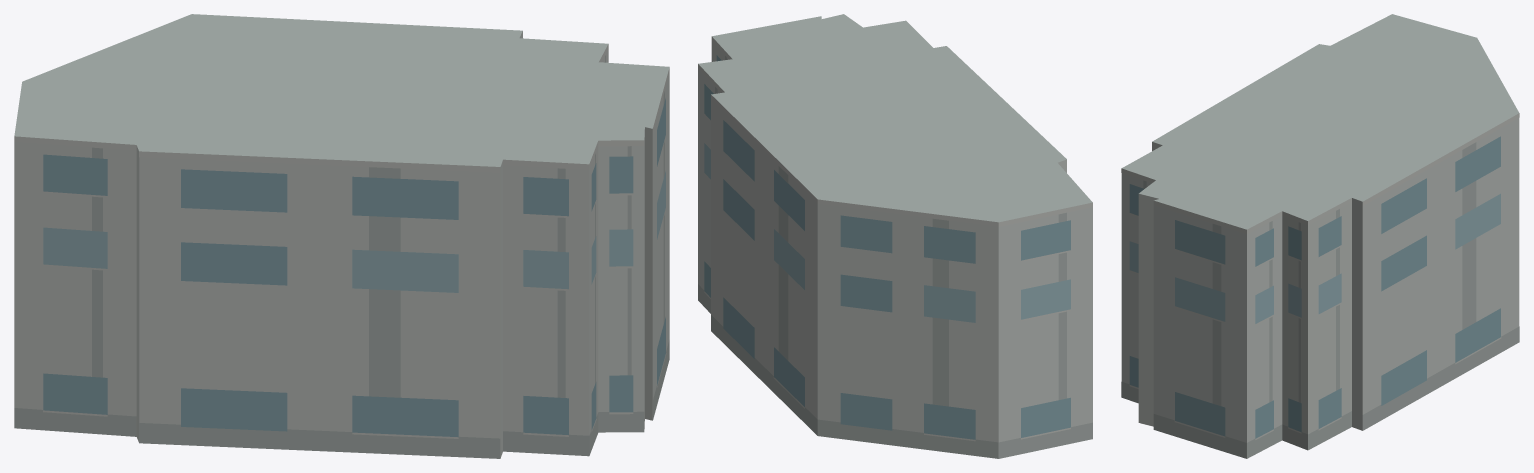
File: residential-78fada91-8e5c-4765-ae83-ebc29fe196af.glb
3 renders of one model, left to right at view 1: azimuth 30°, elevation 25°; view 2: azimuth 150°, elevation 25°; view 3: azimuth 270°, elevation 25°, orthographic. The views are drawn at different scales.
Visible parts, largest first — view 1: residential-78fada91-8e5c-4765-ae83-ebc29fe196af.tmp; view 2: residential-78fada91-8e5c-4765-ae83-ebc29fe196af.tmp; view 3: residential-78fada91-8e5c-4765-ae83-ebc29fe196af.tmp.
Boxes of the visible parts, box(x1,y1,x2,y2) form: residential-78fada91-8e5c-4765-ae83-ebc29fe196af.tmp: box(14, 14, 669, 458); residential-78fada91-8e5c-4765-ae83-ebc29fe196af.tmp: box(698, 14, 1092, 458); residential-78fada91-8e5c-4765-ae83-ebc29fe196af.tmp: box(1121, 14, 1519, 458).
Bounding box in the file's own units: 24.62 × 12.2 × 19.2.
